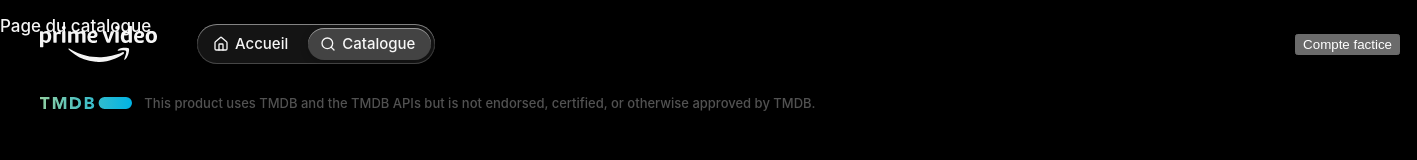
Scenario: coque de l'application (spec 11) › montre le logo, qui ramène à l'accueil
Click the link named "Prime Video" at {"x": 98, "y": 44}, box [40,26,157,62]
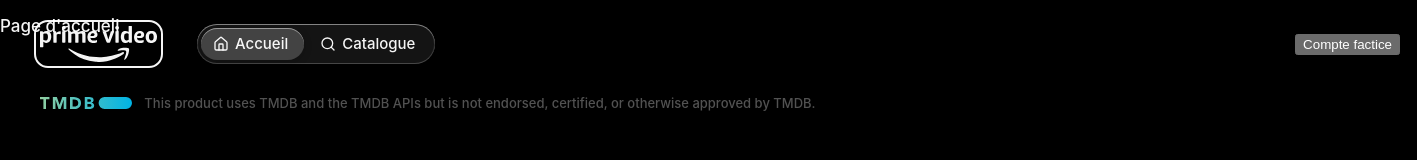
Expected: the text "Page d'accueil" is shown, [0,16,119,36]
